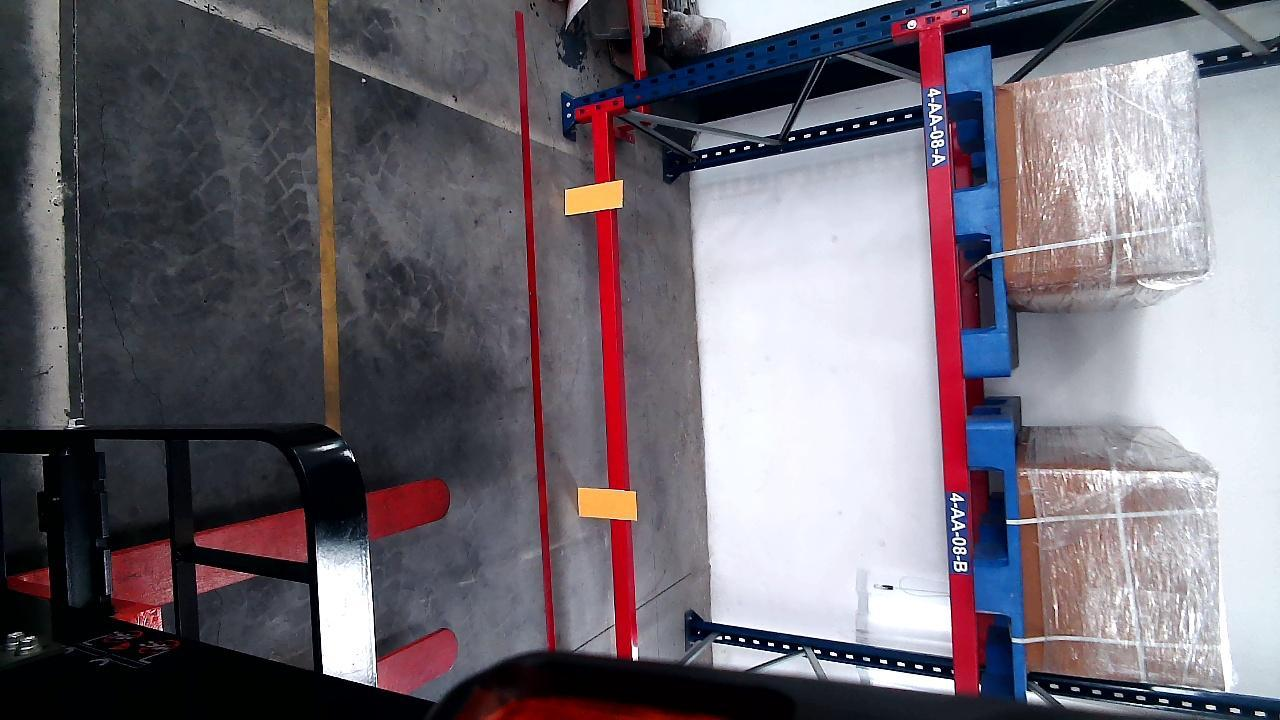red_line: (514, 14, 556, 647)
yellow_line: (314, 0, 340, 423)
